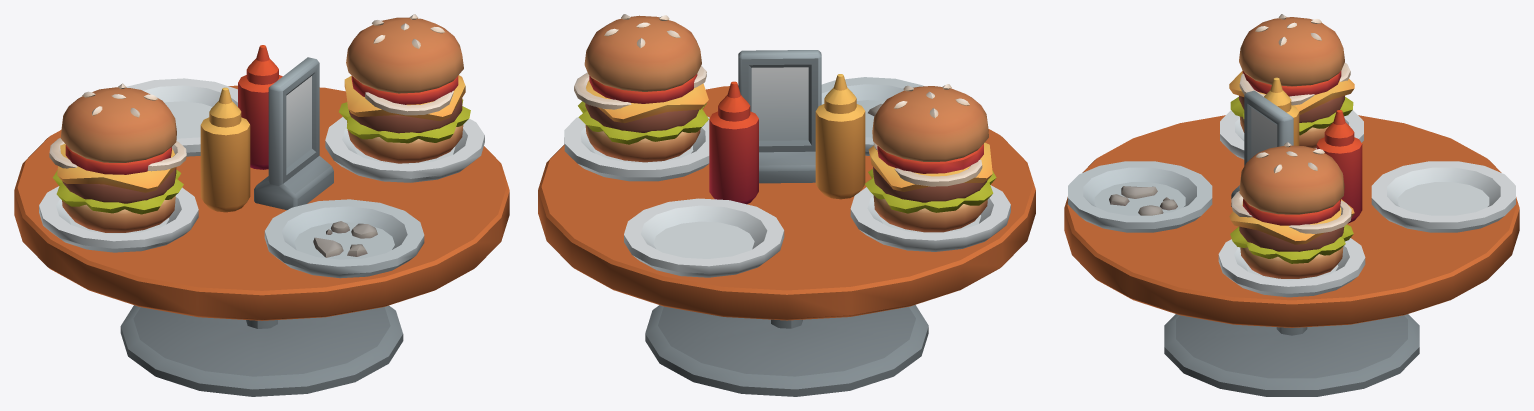
File: table_round_A_decorated.obj
3 renders of one model, left to right at view 1: azimuth 30°, elevation 25°; view 2: azimuth 150°, elevation 25°; view 3: azimuth 270°, elevation 25°, orthographic. The views are drawn at different scales.
Visible parts, largest first — view 1: table_round_A_decorated_Cylinder.016; view 2: table_round_A_decorated_Cylinder.016; view 3: table_round_A_decorated_Cylinder.016.
Part boxes in pixels (x1,y1,x2,y2): table_round_A_decorated_Cylinder.016: (14,14,509,396); table_round_A_decorated_Cylinder.016: (538,14,1035,396); table_round_A_decorated_Cylinder.016: (1064,14,1519,396).
Bounding box in the file's own units: 3 × 1.86 × 3.
1 material, 1 textured.
